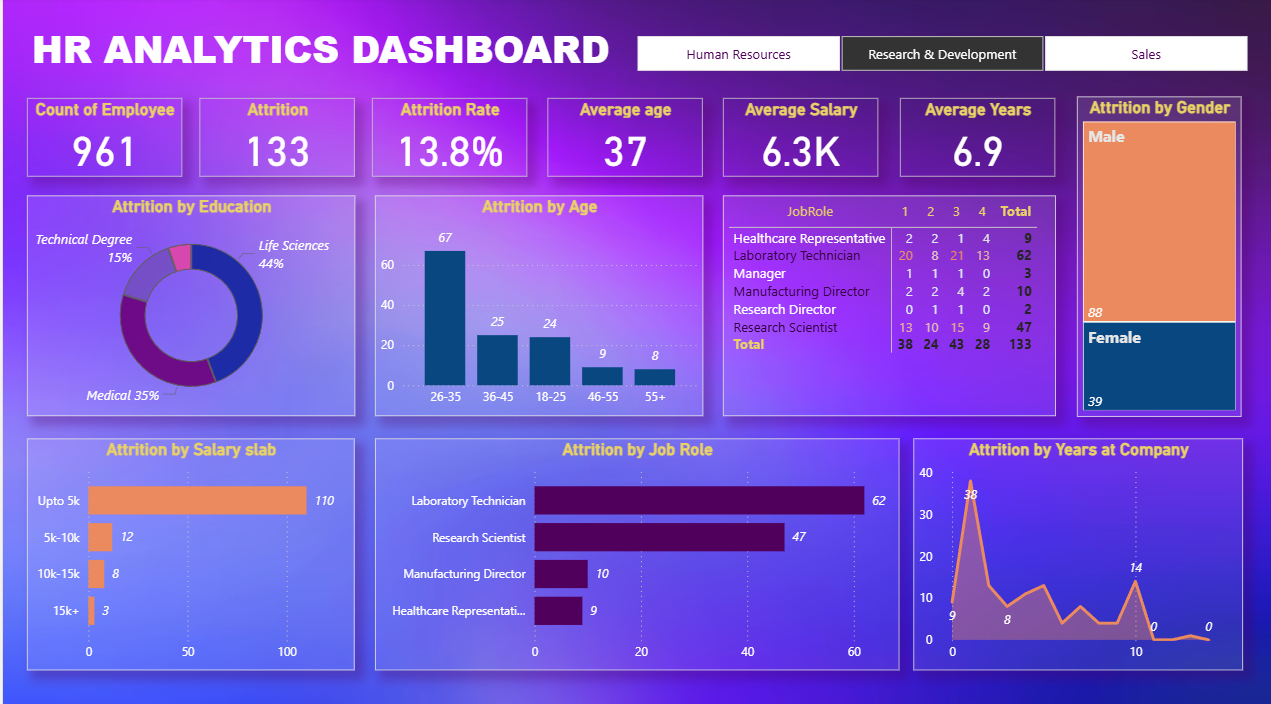

The page's visual inventory and layout, read from the dashboard file:
{"tool":"powerbi","page":{"name":"Page 1","canvas":[1280,720],"ordinal":0},"visuals":[{"type":"card","title":"Count of Employee","fields":{"Values":["Count(HR_Analytics.EmpID)"]},"box":[24.2,102.4,156.9,79.4],"z":0},{"type":"card","title":"Attrition","fields":{"Values":["Sum(HR_Analytics.AttritionCount)"]},"box":[198,102.4,156.9,79.4],"z":1000},{"type":"card","title":"Attrition Rate","fields":{"Values":["HR_Analytics.AttritionRate"]},"box":[371.9,102.4,156.9,79.4],"z":2000},{"type":"card","title":"Average age","fields":{"Values":["Avg(HR_Analytics.Age)"]},"box":[549.5,102.4,156.9,79.4],"z":3000},{"type":"card","title":"Average Salary","fields":{"Values":["Avg(HR_Analytics.MonthlyIncome)"]},"box":[727.2,102.4,156.9,79.4],"z":4000},{"type":"card","title":"Average Years","fields":{"Values":["Avg(HR_Analytics.YearsAtCompany)"]},"box":[904.8,102.4,156.9,79.4],"z":5000},{"type":"donutChart","title":"Attrition by Education","fields":{"Category":["HR_Analytics.EducationField"],"Y":["Sum(HR_Analytics.AttritionCount)"]},"box":[24.2,201.9,331.6,222.6],"z":6000},{"type":"columnChart","title":"Attrition by Age","fields":{"Y":["Sum(HR_Analytics.AttritionCount)"],"Category":["HR_Analytics.AgeGroup"]},"box":[375.5,201.9,331.6,222.6],"z":7000},{"type":"pivotTable","fields":{"Rows":["HR_Analytics.JobRole"],"Columns":["HR_Analytics.JobSatisfaction"],"Values":["Sum(HR_Analytics.AttritionCount)"]},"box":[726.8,201.9,336.2,222.6],"z":8000},{"type":"barChart","title":"Attrition by Salary slab","fields":{"Category":["HR_Analytics.SalarySlab"],"Y":["Sum(HR_Analytics.AttritionCount)"]},"box":[24.6,447.2,330.7,234.3],"z":9000},{"type":"barChart","title":"Attrition by Job Role","fields":{"Category":["HR_Analytics.JobRole"],"Y":["Sum(HR_Analytics.AttritionCount)"]},"box":[376.1,447.2,529.1,234.3],"z":10000},{"type":"areaChart","title":"Attrition by Years at Company","fields":{"Category":["HR_Analytics.YearsAtCompany"],"Y":["Sum(HR_Analytics.AttritionCount)"]},"box":[918.4,447.2,332.6,234.3],"z":11000},{"type":"treemap","title":"Attrition by Gender","fields":{"Group":["HR_Analytics.Gender"],"Values":["Sum(HR_Analytics.AttritionCount)"]},"box":[1084.7,102,166.3,323.2],"z":12000},{"type":"slicer","fields":{"Values":["HR_Analytics.Department"]},"box":[614.2,34,665.2,49.1],"z":13000},{"type":"textbox","box":[24.6,20.8,602.8,62.4],"z":14000}]}

Visuals, with their boxes in screenshot pixels (x1, y1, x2, y2), scaled from the page's 1280x720 canvas onto the 1271x704 screenshot:
"Count of Employee" card: select_region(24, 100, 180, 178)
"Attrition" card: select_region(197, 100, 352, 178)
"Attrition Rate" card: select_region(369, 100, 525, 178)
"Average age" card: select_region(546, 100, 701, 178)
"Average Salary" card: select_region(722, 100, 878, 178)
"Average Years" card: select_region(898, 100, 1054, 178)
"Attrition by Education" donutChart: select_region(24, 197, 353, 415)
"Attrition by Age" columnChart: select_region(373, 197, 702, 415)
pivotTable - HR_Analytics.JobRole x HR_Analytics.JobSatisfaction: select_region(722, 197, 1056, 415)
"Attrition by Salary slab" barChart: select_region(24, 437, 353, 666)
"Attrition by Job Role" barChart: select_region(373, 437, 899, 666)
"Attrition by Years at Company" areaChart: select_region(912, 437, 1242, 666)
"Attrition by Gender" treemap: select_region(1077, 100, 1242, 416)
slicer - HR_Analytics.Department: select_region(610, 33, 1270, 81)
textbox: select_region(24, 20, 623, 81)
